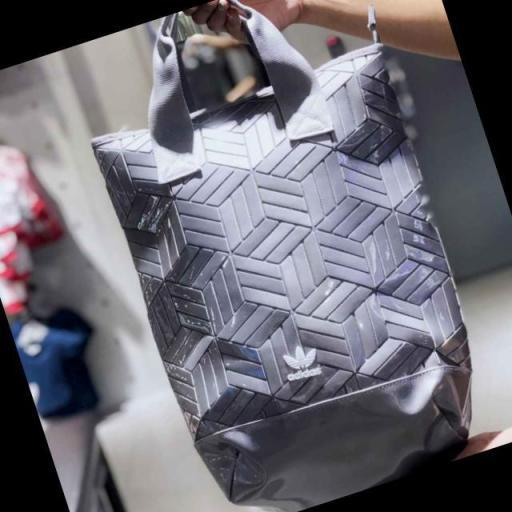bag: (81, 11, 477, 512)
